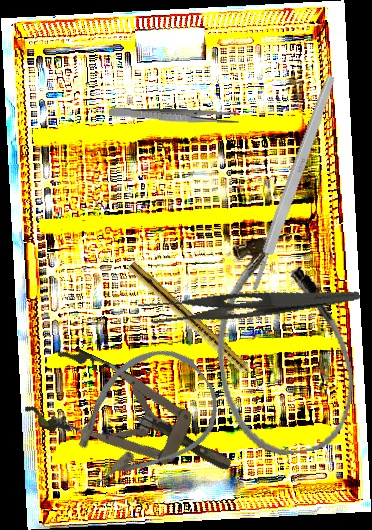Cannula: (200, 227, 364, 463), (50, 330, 235, 507)
Dressing Forceps: (137, 266, 361, 336), (108, 106, 240, 125)
Handpiece: (124, 260, 267, 391)
Scalpel Handle: (247, 73, 338, 293)
Speculum: (20, 338, 249, 507)
